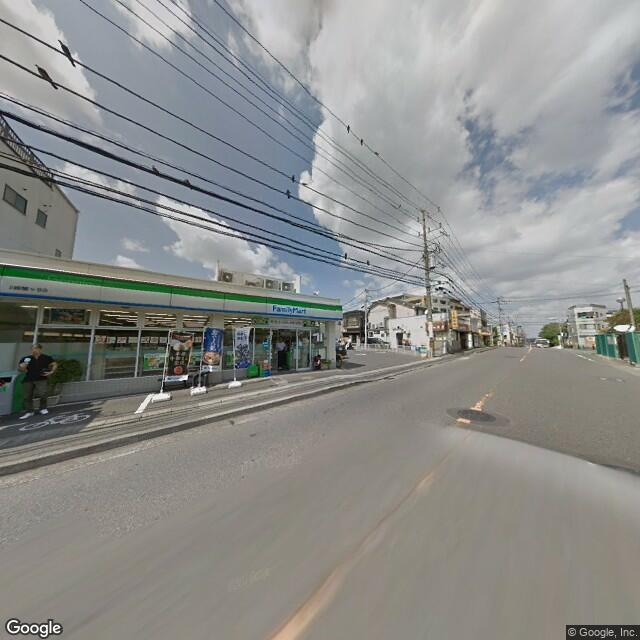family_mart: (2, 262, 345, 322)
